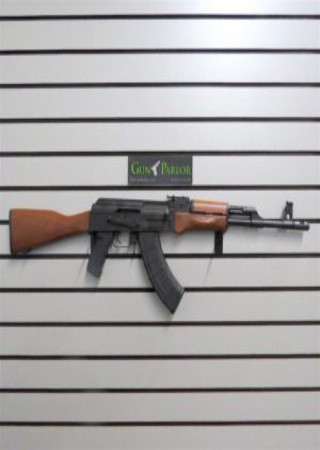rifle: (1, 181, 316, 312)
